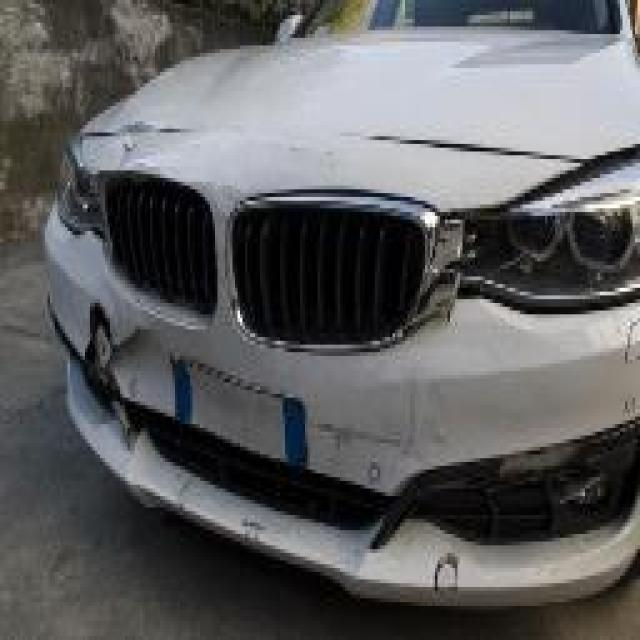Bonnet: (90, 83, 172, 144)
Bumper: (25, 261, 638, 610)
